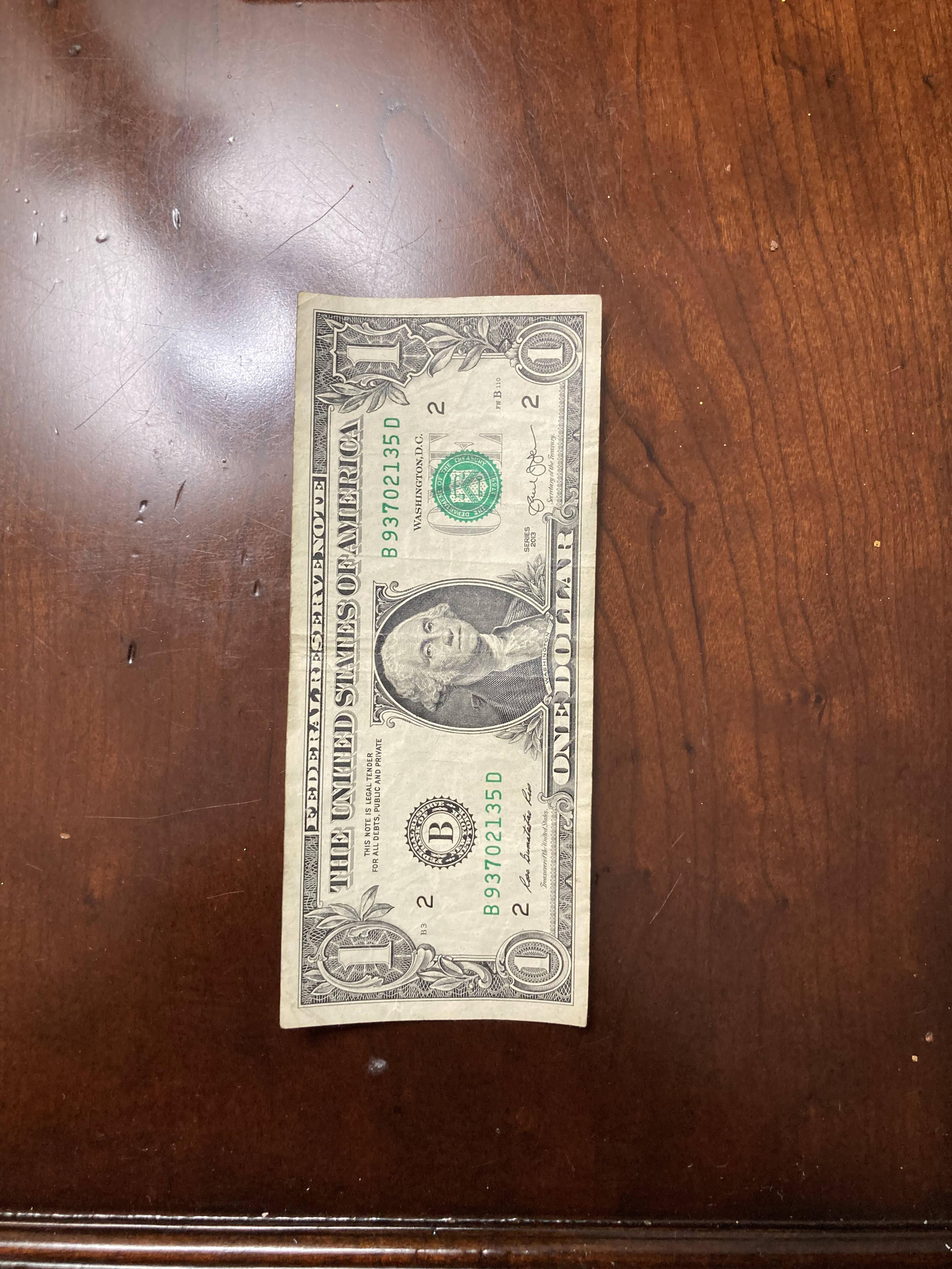one-front: (277, 292, 605, 1030)
